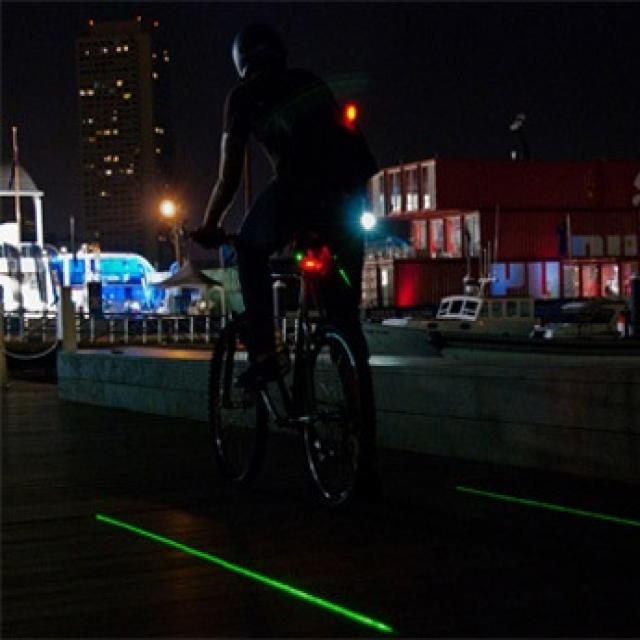Bicycle: (165, 219, 403, 524)
People: (192, 28, 384, 425)
car: (402, 295, 542, 350), (536, 290, 621, 344)
